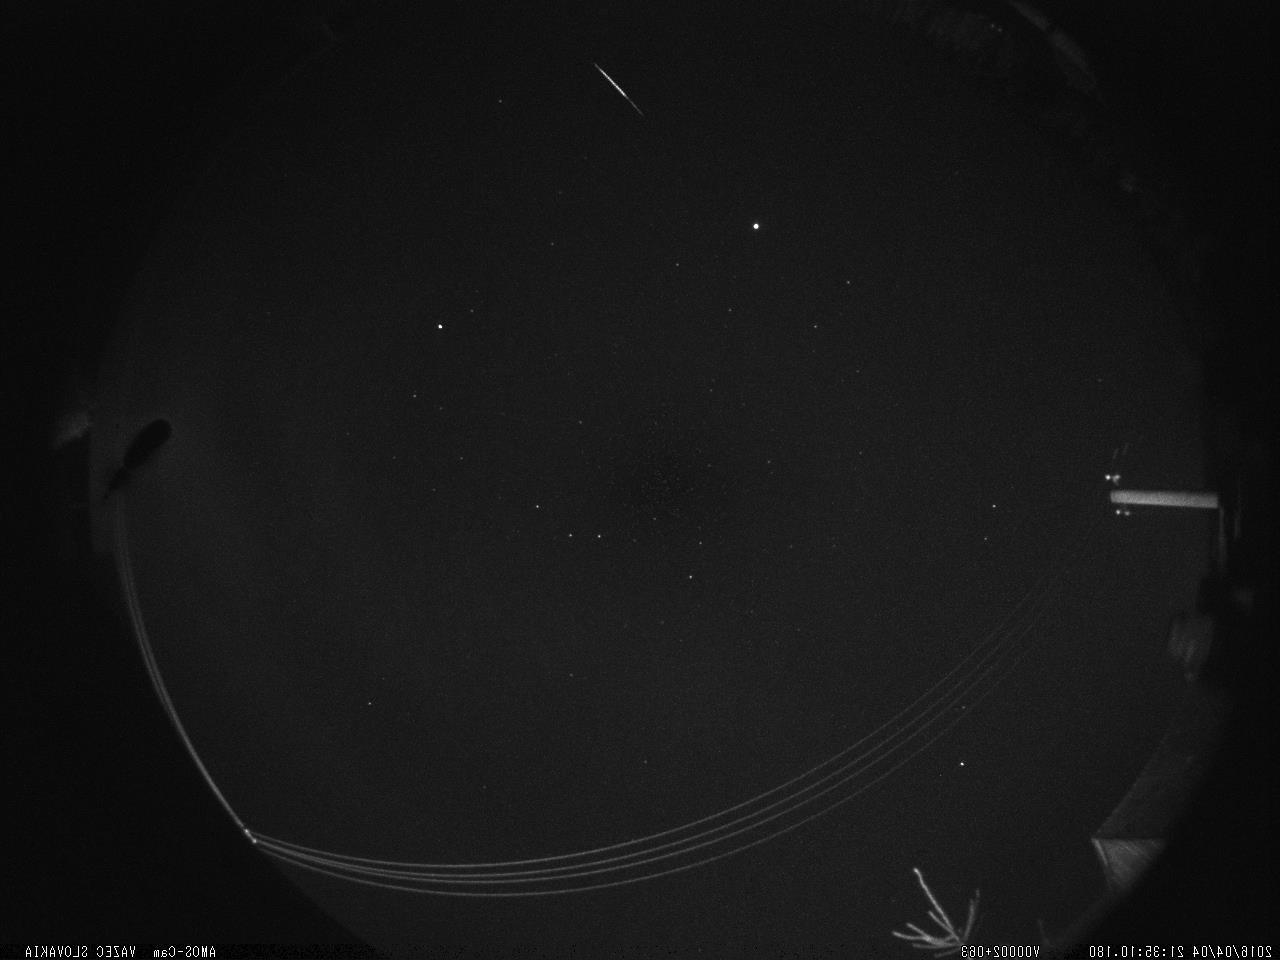meteor: (573, 58, 682, 129)
